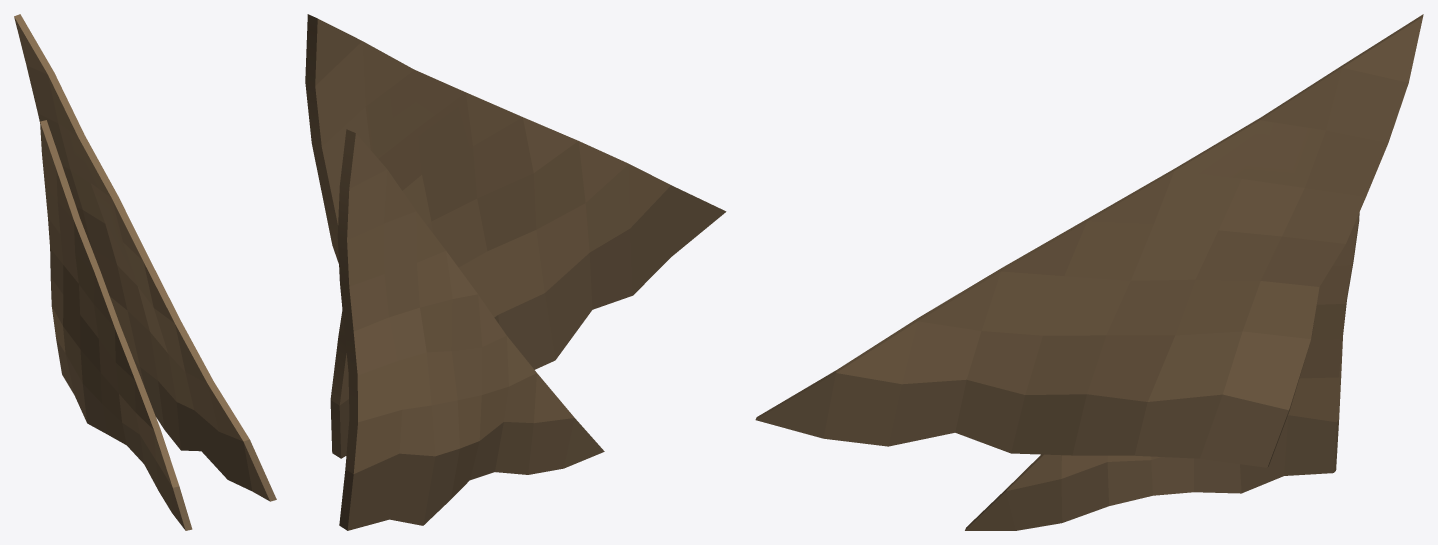
Rendered from SM_Veh_Boat_Warship_01_Sails_05_Pirate.glb.
The picture shows the model from 3 angles, left to right: view 1: azimuth 30°, elevation 25°; view 2: azimuth 150°, elevation 25°; view 3: azimuth 270°, elevation 25°; orthographic projection. The views are drawn at different scales.
Parts seen in each view (by area): view 1: SM_Veh_Boat_Warship_01_Sails_05_Pirate; view 2: SM_Veh_Boat_Warship_01_Sails_05_Pirate; view 3: SM_Veh_Boat_Warship_01_Sails_05_Pirate.
Part boxes in pixels (<box>): SM_Veh_Boat_Warship_01_Sails_05_Pirate: <box>14,14,276,530</box>; SM_Veh_Boat_Warship_01_Sails_05_Pirate: <box>305,14,726,530</box>; SM_Veh_Boat_Warship_01_Sails_05_Pirate: <box>755,14,1423,530</box>.
Bounding box in the file's own units: 0.0122 × 0.0882 × 0.1036.
Materials: 1 (1 with a texture image).
